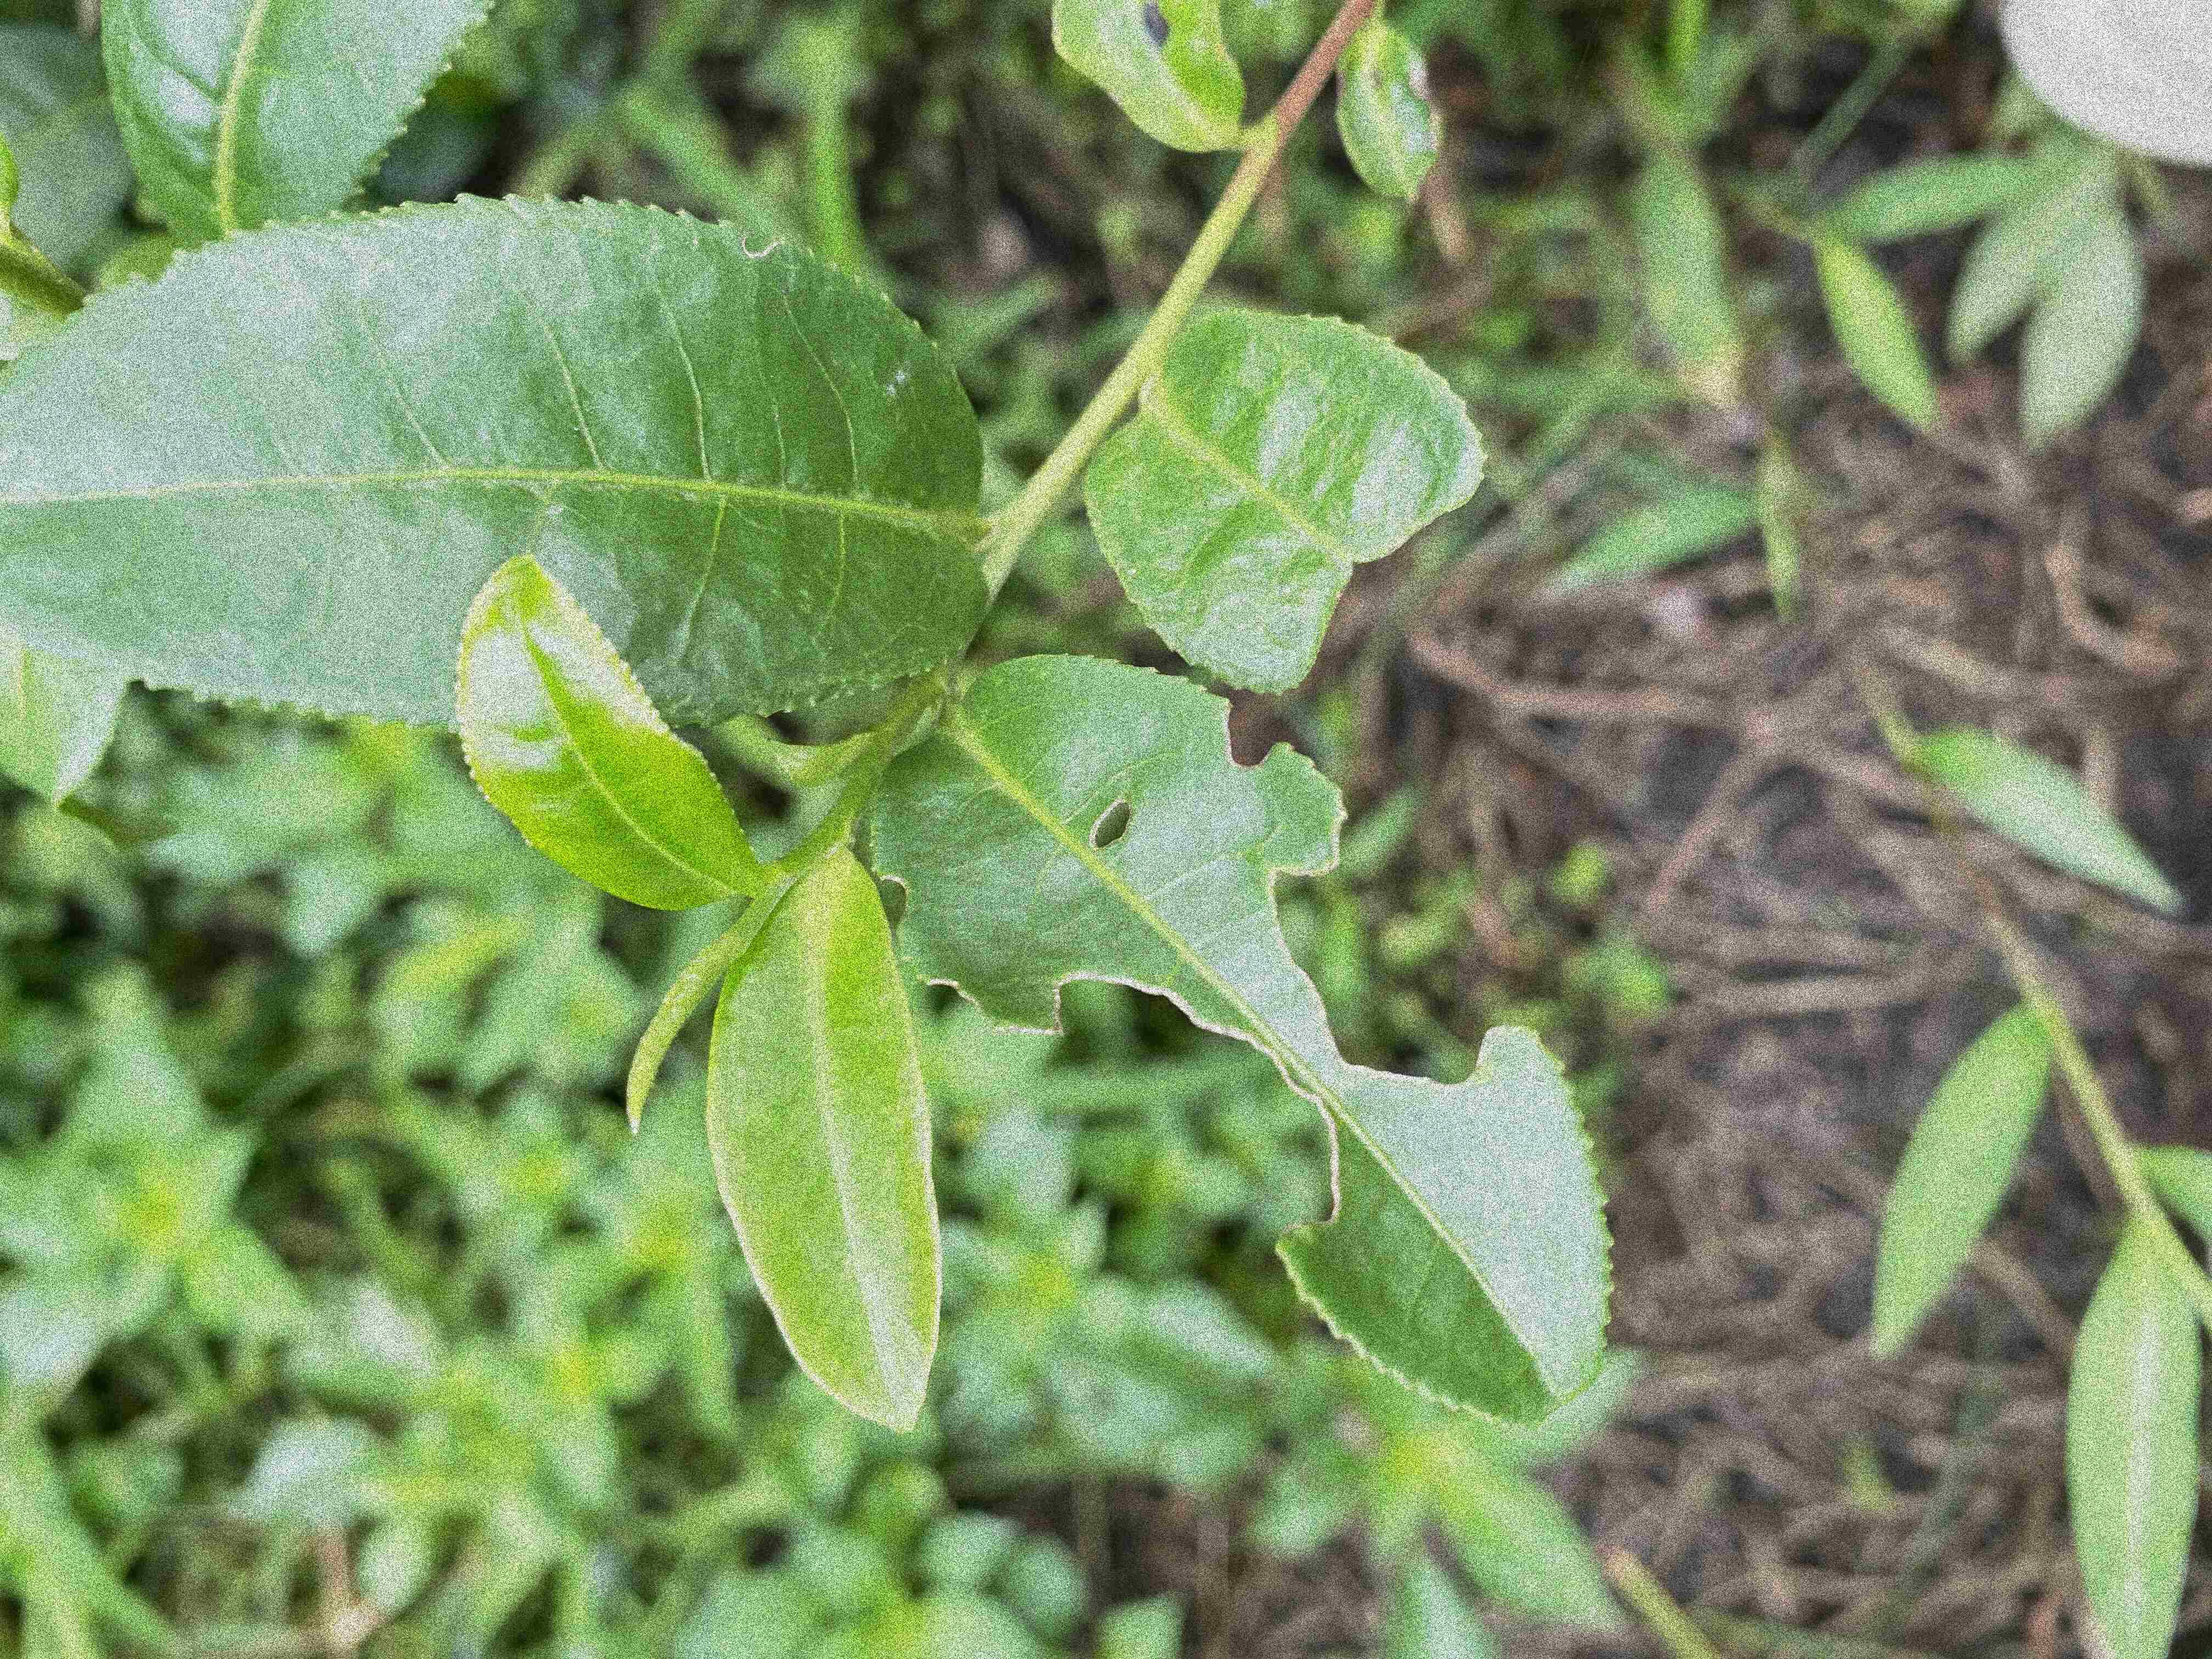chihuo_high: (862, 648, 1618, 1431), (1078, 305, 1487, 694)
chihuo_low: (3, 183, 989, 732)
healthy: (451, 554, 768, 915)
